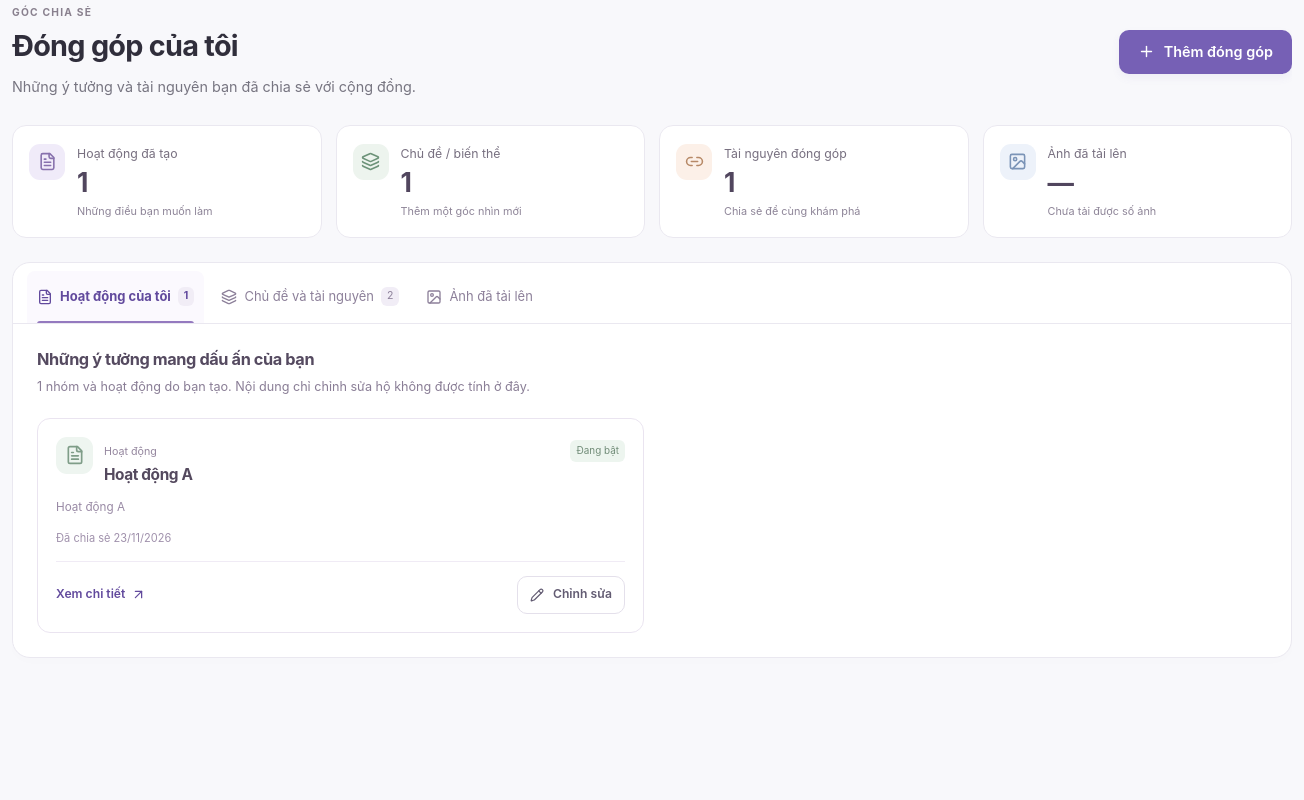
Scenario: Trang đóng góp cá nhân › lỗi Storage không hiện số ảnh 0 giả, vẫn xem được đóng góp và thử lại
Expected: the text "Chưa tải được số ảnh" is shown, 1048,203 -> 1156,219
Expected: the text "—" is shown, 1048,166 -> 1074,198
Click the tab "Ảnh đã tải lên" at (480, 297), box 416,271 -> 543,323
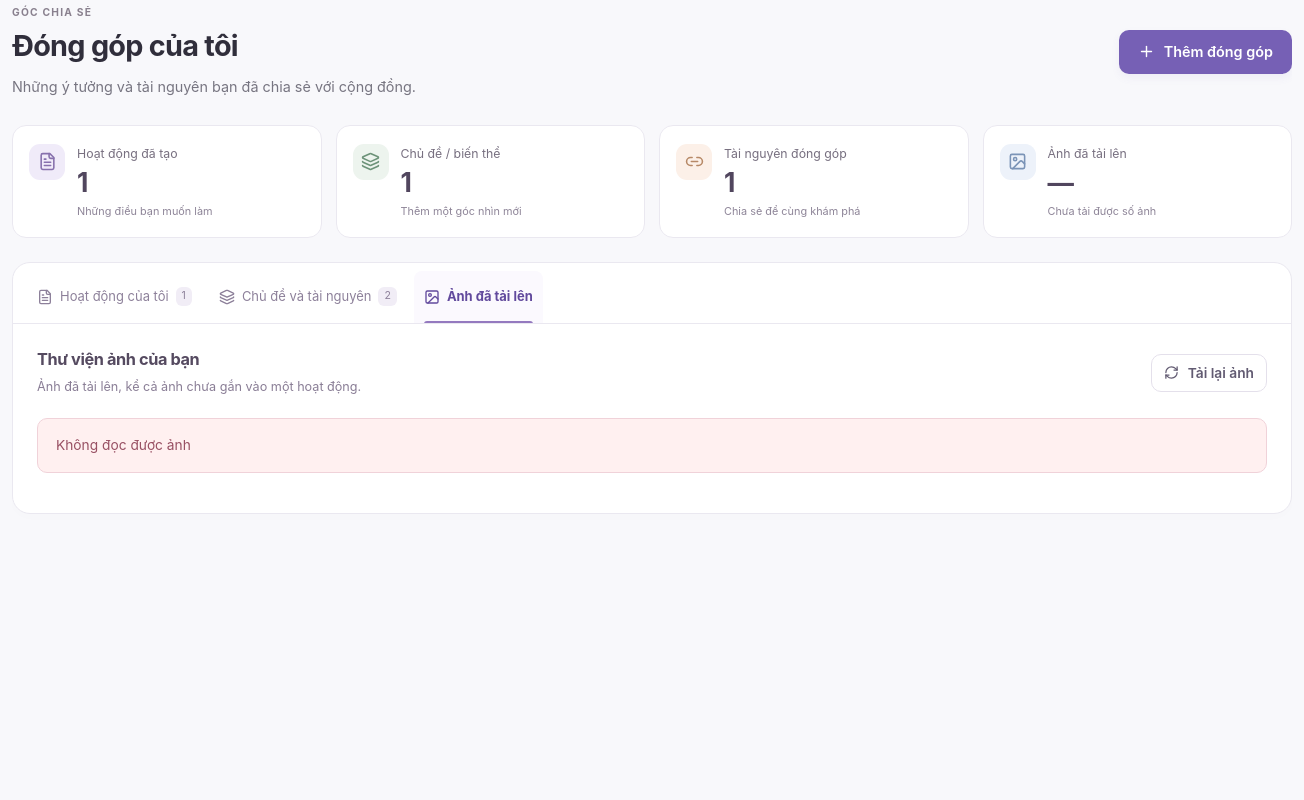
Now the message reads "Không đọc được ảnh", box 56,437 -> 191,453
Click the button "Tải lại ảnh" at (1209, 373), box 1151,354 -> 1267,392
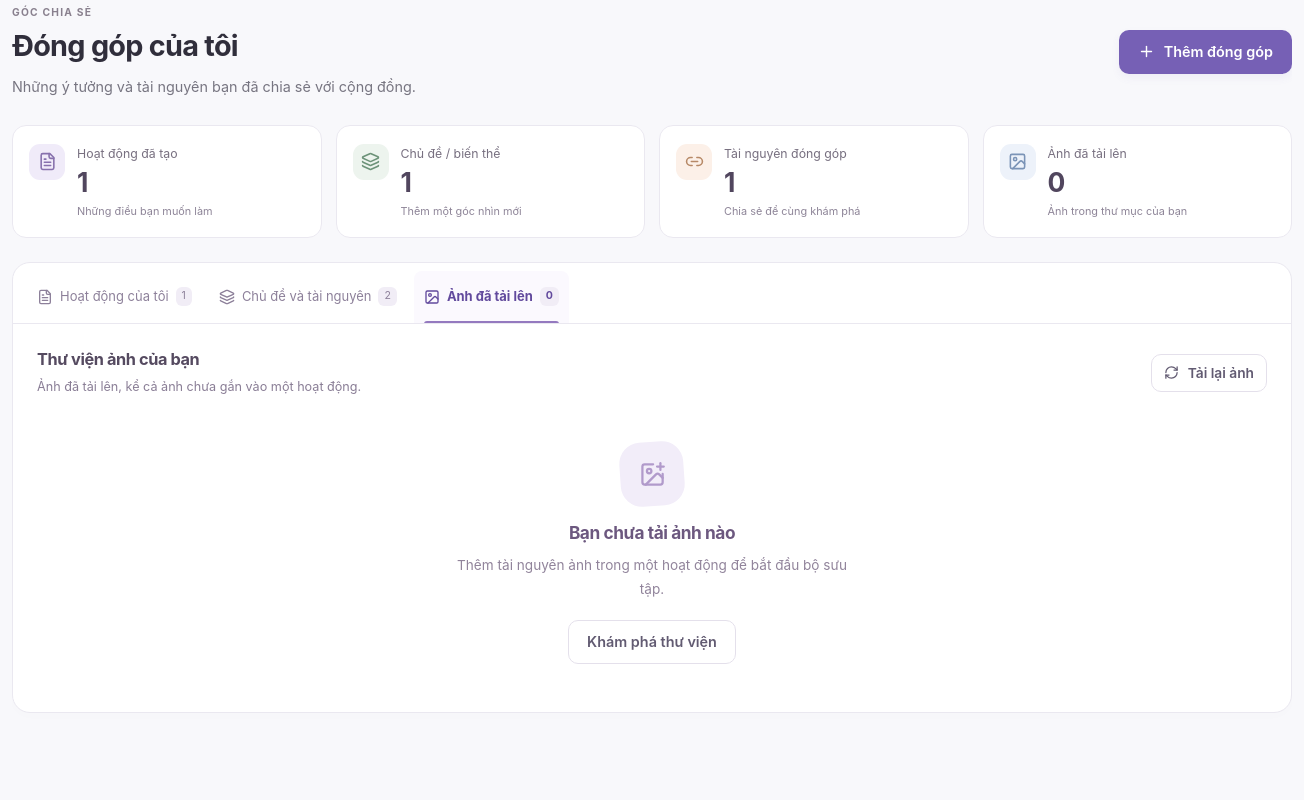
Now the heading "Bạn chưa tải ảnh nào" is shown, box 569,521 -> 735,544
